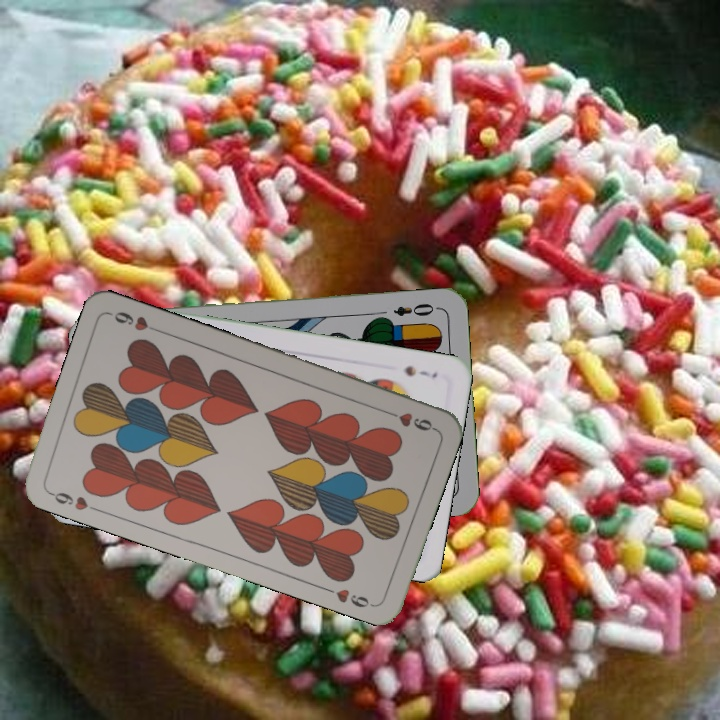EO: (389, 299, 441, 319)
H9: (380, 406, 438, 434), (45, 487, 102, 515)
S7: (400, 361, 440, 381)
